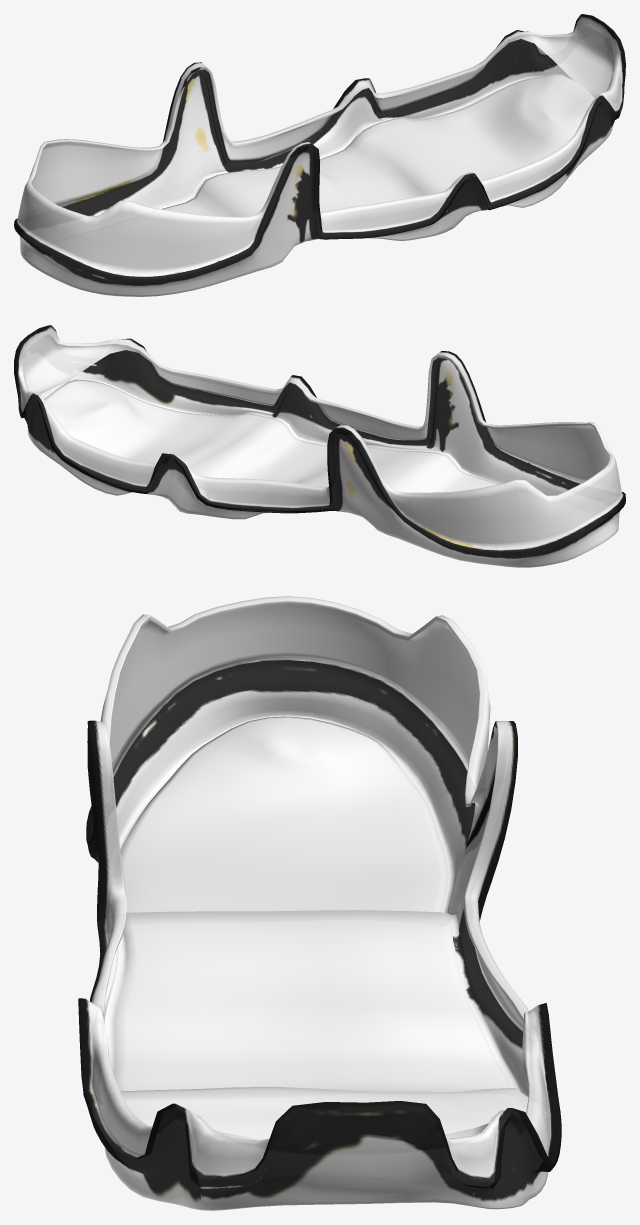
3 views of the same model, one above another, from view 1: azimuth 30°, elevation 25°; view 2: azimuth 150°, elevation 25°; view 3: azimuth 270°, elevation 25° (orthographic). The views are drawn at different scales.
Parts seen in each view (by area): view 1: Mesh_7.001; view 2: Mesh_7.001; view 3: Mesh_7.001.
Part boxes in pixels (x1,y1,x2,y2): Mesh_7.001: [14, 14, 625, 296]; Mesh_7.001: [14, 325, 625, 567]; Mesh_7.001: [78, 596, 561, 1210].
Size of the model in its own units: 4.8 by 0.974 by 1.77.
Materials: 1 (1 with a texture image).
